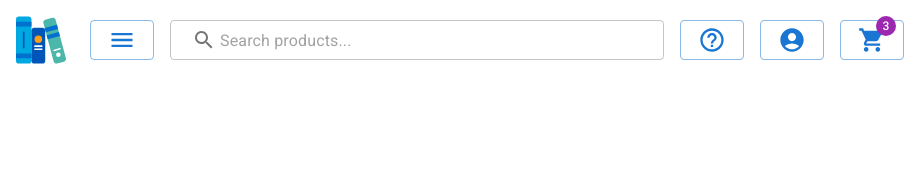
Test case: Header › shows My Profile / Sign Out if logged in
This screenshot has width=921, height=194.
Step 1. Click the 2nd button "account" → [792, 40], box [760,20,824,60]
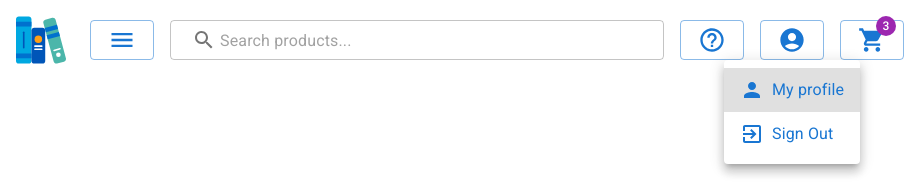
Expected: the text "My profile" is shown, [772,78,844,102]
Expected: the text "Sign Out" is shown, [772,122,834,146]
